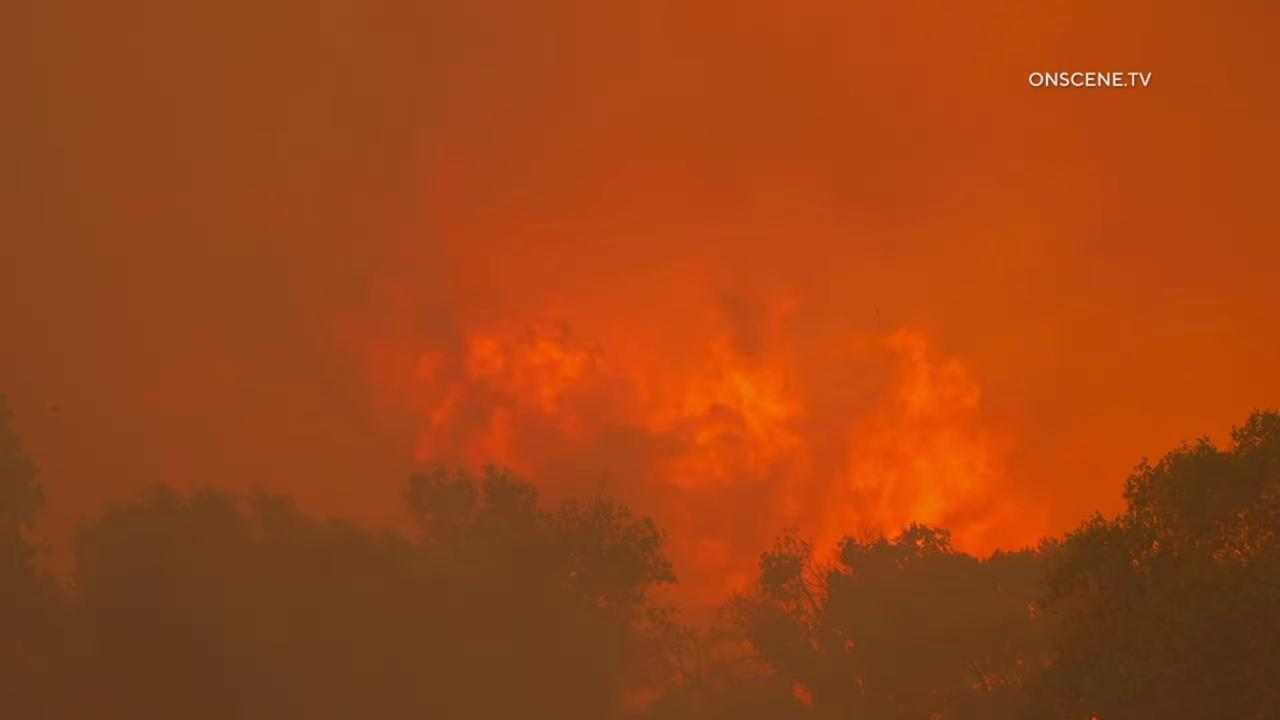fire: (413, 315, 1025, 661)
smoke: (0, 0, 1280, 720)
